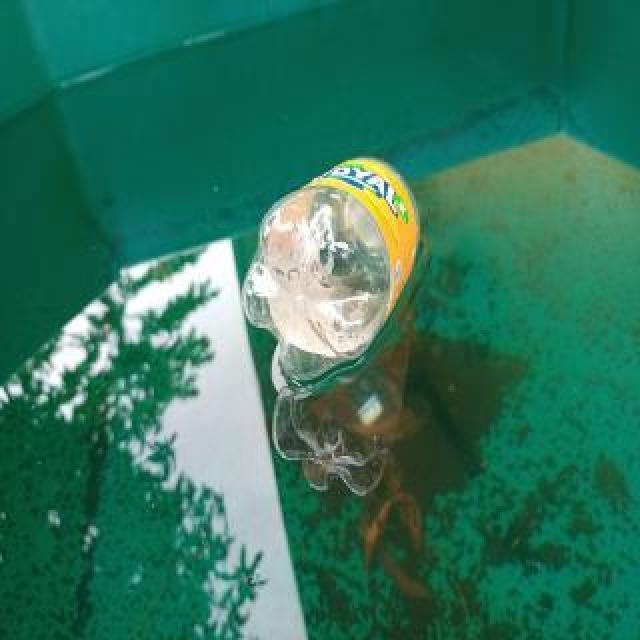bottle: (237, 151, 425, 385)
